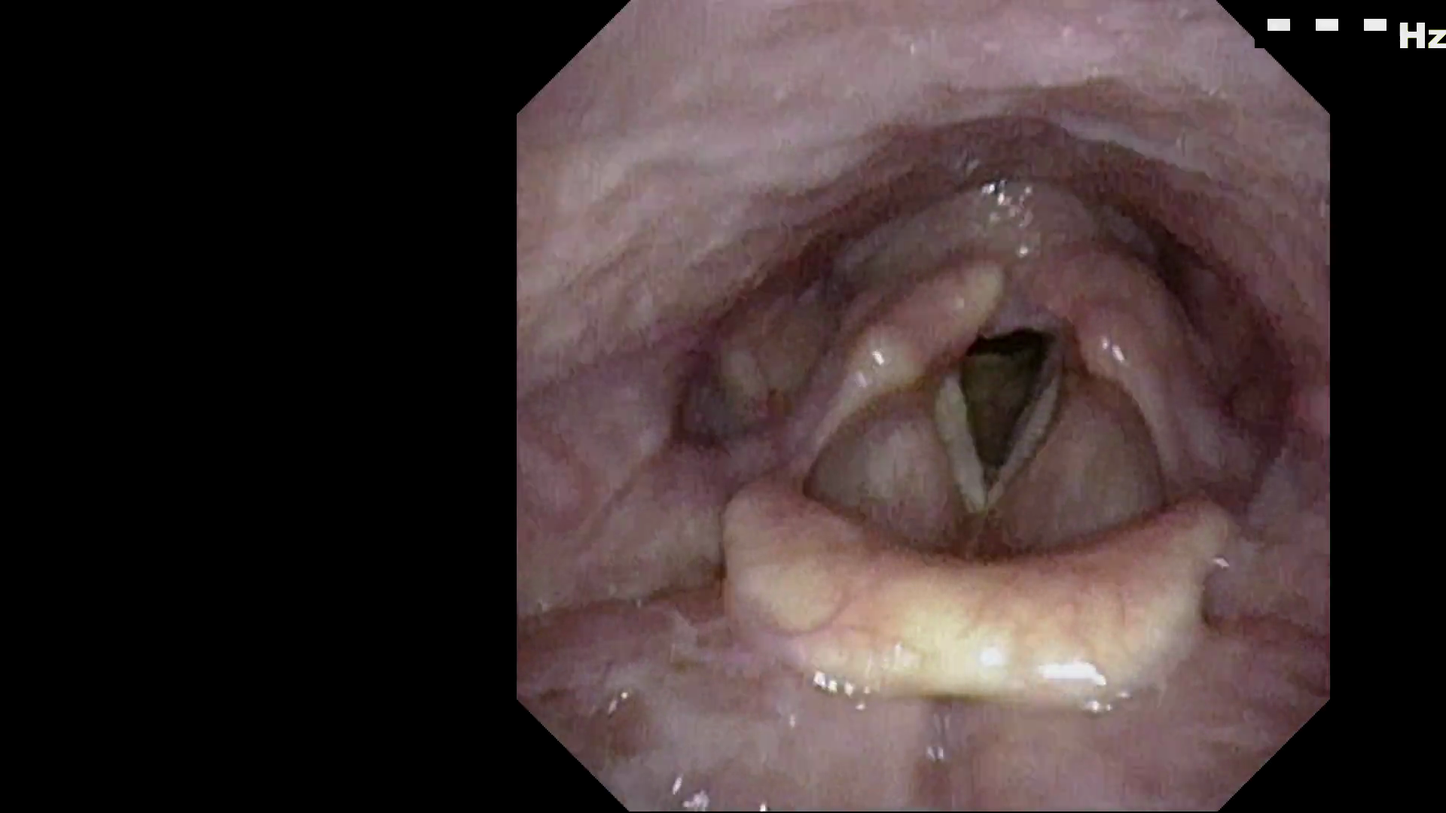epiglottis: (691, 409, 1289, 689)
trachea: (904, 267, 1087, 495)
